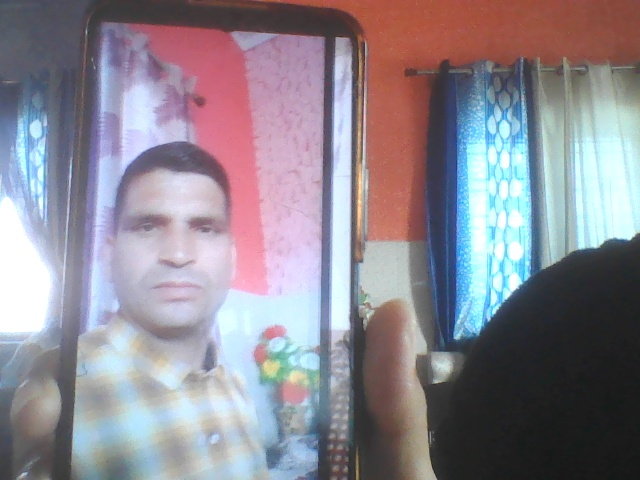fake: (101, 138, 240, 335)
